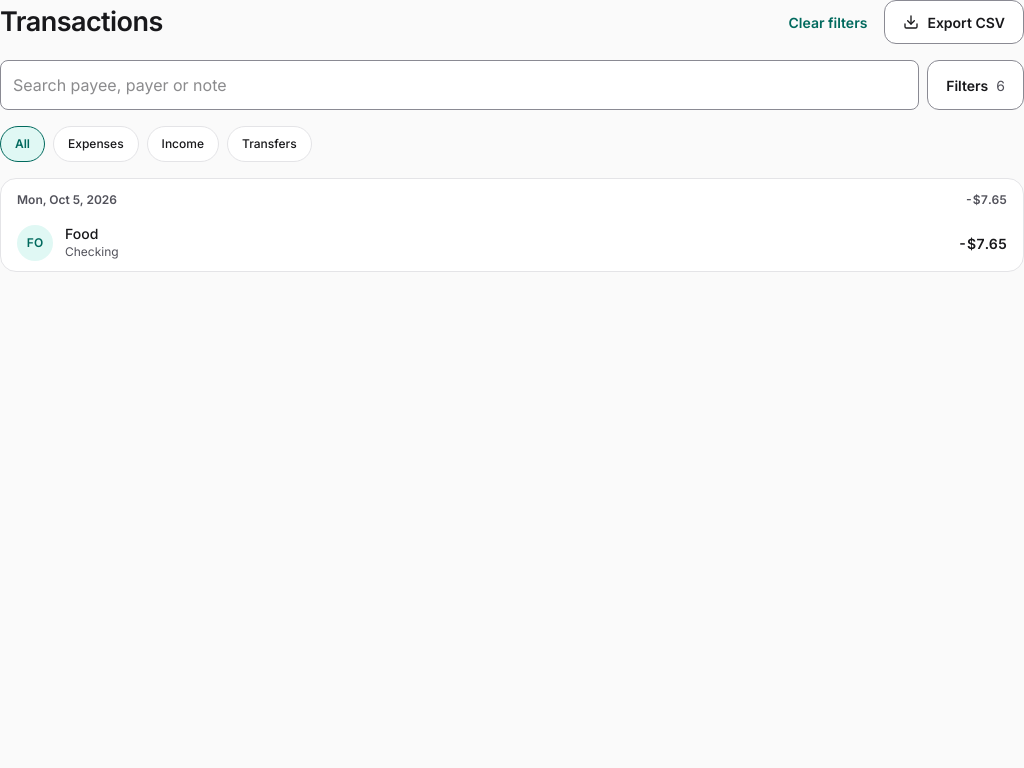
it: the Filters sheet › starts from the applied filters
Check: the button with aria-label "Open transaction" is shown, box [1,215,1023,271]
Click the button "Filters 6" at x=976, y=85, box [927,60,1023,110]
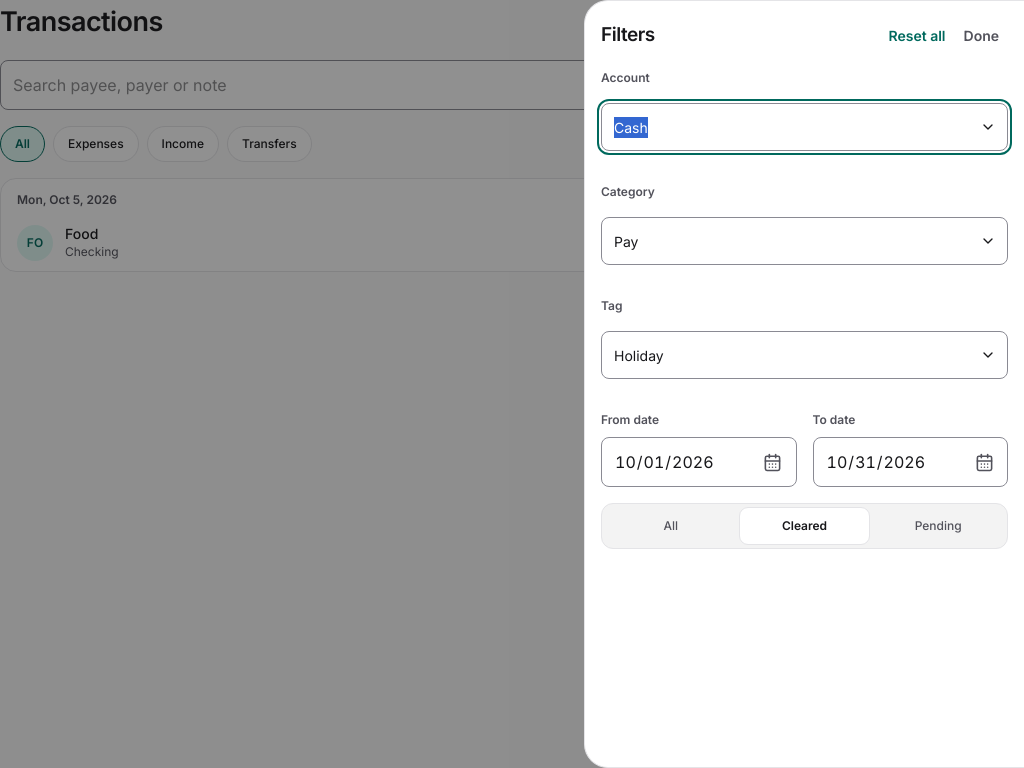
Check: the dropdown labelled "Account" holds "Cash", box [601,103,1008,151]
Check: the dropdown labelled "Category" holds "Pay", box [601,217,1008,265]
Check: the dropdown labelled "Tag" holds "Holiday", box [601,331,1008,379]
